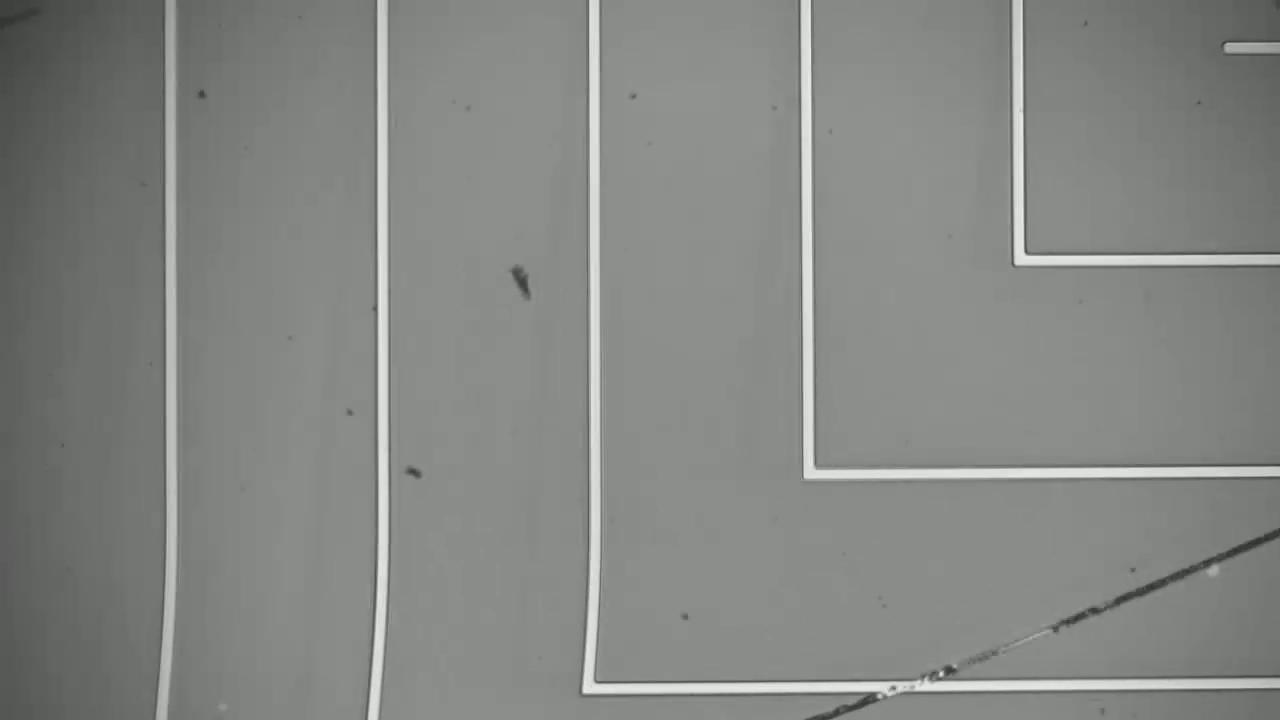scratch: (818, 529, 1279, 704)
